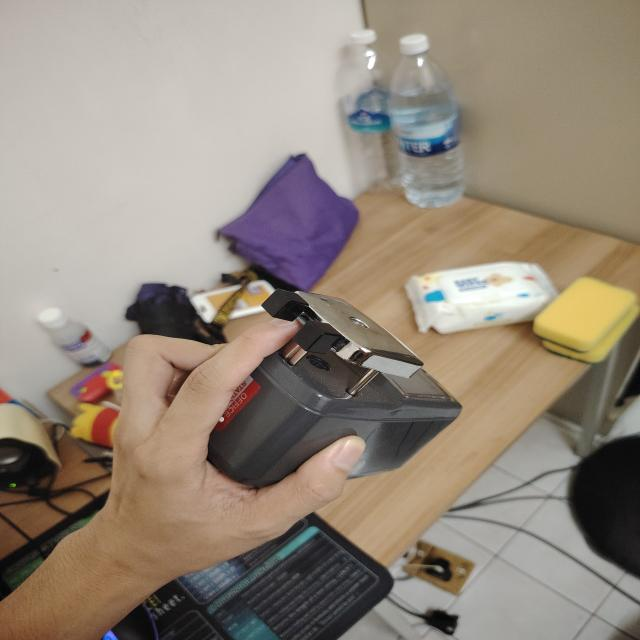sharpener: (208, 289, 461, 487)
